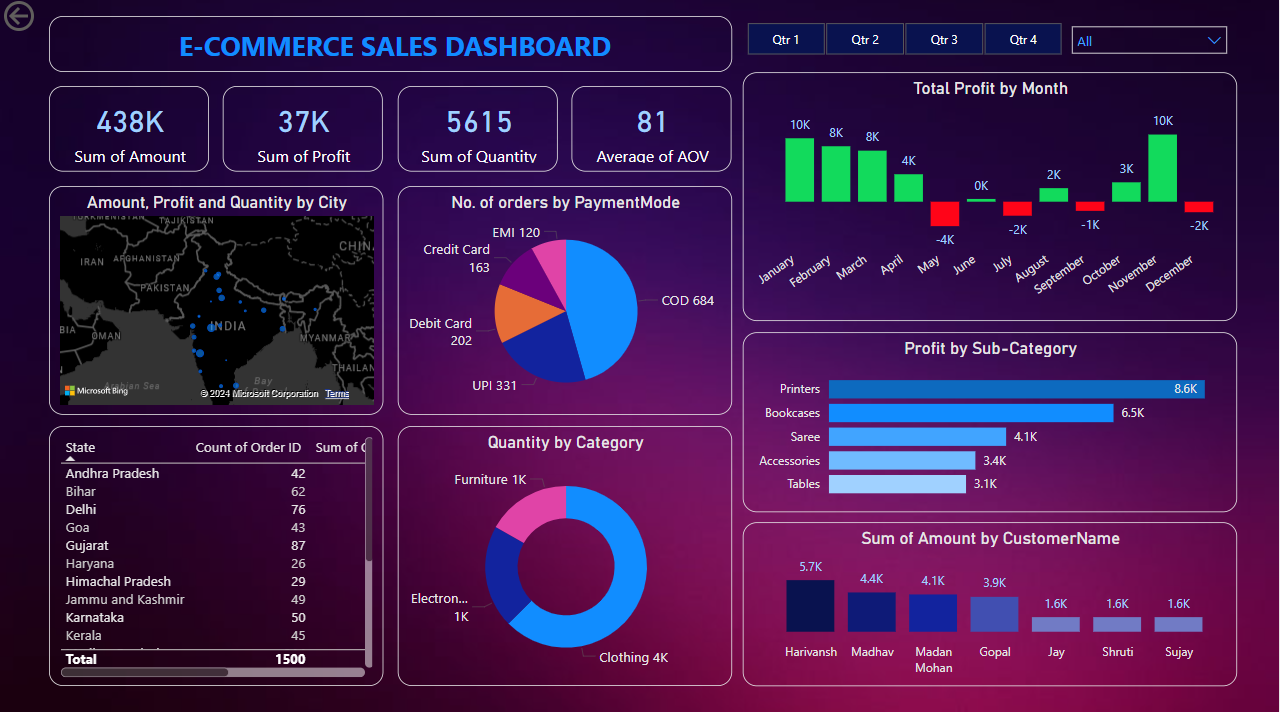

The dashboard page shown, as its layout file describes it:
{"tool":"powerbi","page":{"name":"E-Commerce","canvas":[1280,720],"ordinal":0},"visuals":[{"type":"columnChart","title":"Total Profit by Month","fields":{"Category":["Orders.Order Date.Variation.Date Hierarchy.Month"],"Y":["Details.Profit"]},"box":[744.3,75.7,494.3,248.6],"z":0},{"type":"barChart","title":"Profit by Sub-Category","fields":{"Category":["Details.Sub-Category"],"Y":["Details.Profit"]},"box":[744.3,335.7,494.3,180],"z":1000},{"type":"donutChart","title":"Quantity by Category","fields":{"Category":["Details.Category"],"Y":["Details.Quantity"]},"box":[398.6,430,334.3,260],"z":2000},{"type":"pieChart","title":"No. of orders by PaymentMode","fields":{"Category":["Details.PaymentMode"],"Y":["Details.Order ID"]},"box":[398.6,190,334.3,228.6],"z":3000},{"type":"map","title":"Amount, Profit and Quantity by City","fields":{"Category":["Orders.City"],"Size":["Details.Profit"]},"box":[50,190,334.3,228.6],"z":4000},{"type":"actionButton","box":[0,0,100,40],"z":5000},{"type":"tableEx","fields":{"Values":["Orders.State","Details.Order ID","Details.Quantity","Details.Amount","Details.Profit"]},"box":[50,430,334.3,260],"z":6000},{"type":"card","fields":{"Values":["Details.Amount"]},"box":[50,90,160,85.7],"z":7000},{"type":"card","fields":{"Values":["Details.Profit"]},"box":[224.3,90,160,85.7],"z":8000},{"type":"card","fields":{"Values":["Details.Quantity"]},"box":[398.6,90,160,85.7],"z":9000},{"type":"card","fields":{"Values":["Details.AOV"]},"box":[572.9,90,160,85.7],"z":10000},{"type":"columnChart","fields":{"Category":["Orders.CustomerName"],"Y":["Details.Amount"]},"box":[744.3,525.7,494.3,164.3],"z":11000},{"type":"textbox","box":[50,20,682.9,55.7],"z":12000},{"type":"slicer","fields":{"Values":["Orders.Order Date.Variation.Date Hierarchy.Quarter"]},"box":[722.9,20,364.3,45.7],"z":13000},{"type":"slicer","fields":{"Values":["Orders.State"]},"box":[1062.9,20,175.7,45.7],"z":14000}]}

Visuals, with their boxes in screenshot pixels (x1, y1, x2, y2), scaled from the page's 1280x720 canvas onto the 1280x712 screenshot:
"Total Profit by Month" columnChart: crop(744, 75, 1239, 321)
"Profit by Sub-Category" barChart: crop(744, 332, 1239, 510)
"Quantity by Category" donutChart: crop(399, 425, 733, 682)
"No. of orders by PaymentMode" pieChart: crop(399, 188, 733, 414)
"Amount, Profit and Quantity by City" map: crop(50, 188, 384, 414)
actionButton: crop(0, 0, 100, 40)
tableEx - Orders.State x Details.Order ID: crop(50, 425, 384, 682)
card - Details.Amount: crop(50, 89, 210, 174)
card - Details.Profit: crop(224, 89, 384, 174)
card - Details.Quantity: crop(399, 89, 559, 174)
card - Details.AOV: crop(573, 89, 733, 174)
columnChart - Orders.CustomerName x Details.Amount: crop(744, 520, 1239, 682)
textbox: crop(50, 20, 733, 75)
slicer - Orders.Order Date.Variation.Date Hierarchy.Quarter: crop(723, 20, 1087, 65)
slicer - Orders.State: crop(1063, 20, 1239, 65)
